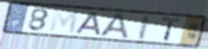8: (27, 7, 50, 32)
A: (97, 12, 131, 41), (74, 11, 103, 37)
I: (138, 14, 151, 41)
M: (48, 8, 81, 35)
T: (161, 17, 183, 42)
